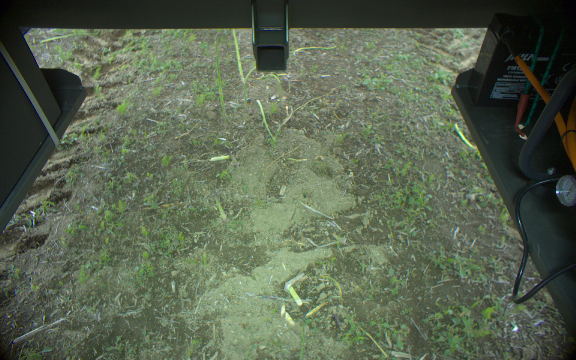aspa: (212, 36, 231, 117), (230, 29, 247, 82)
